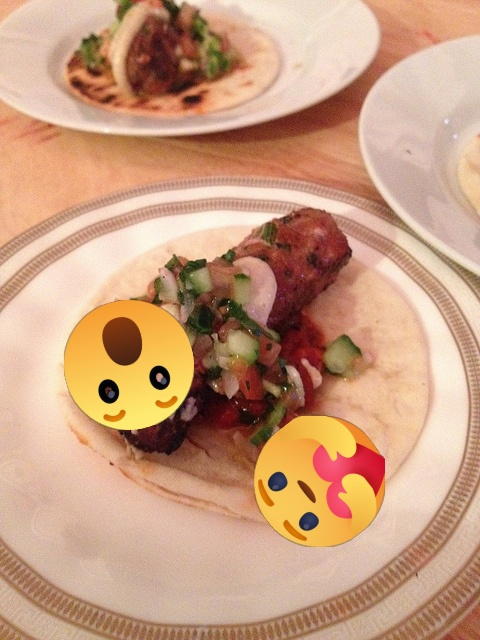care: (254, 416, 385, 547)
wow: (64, 300, 194, 430)
